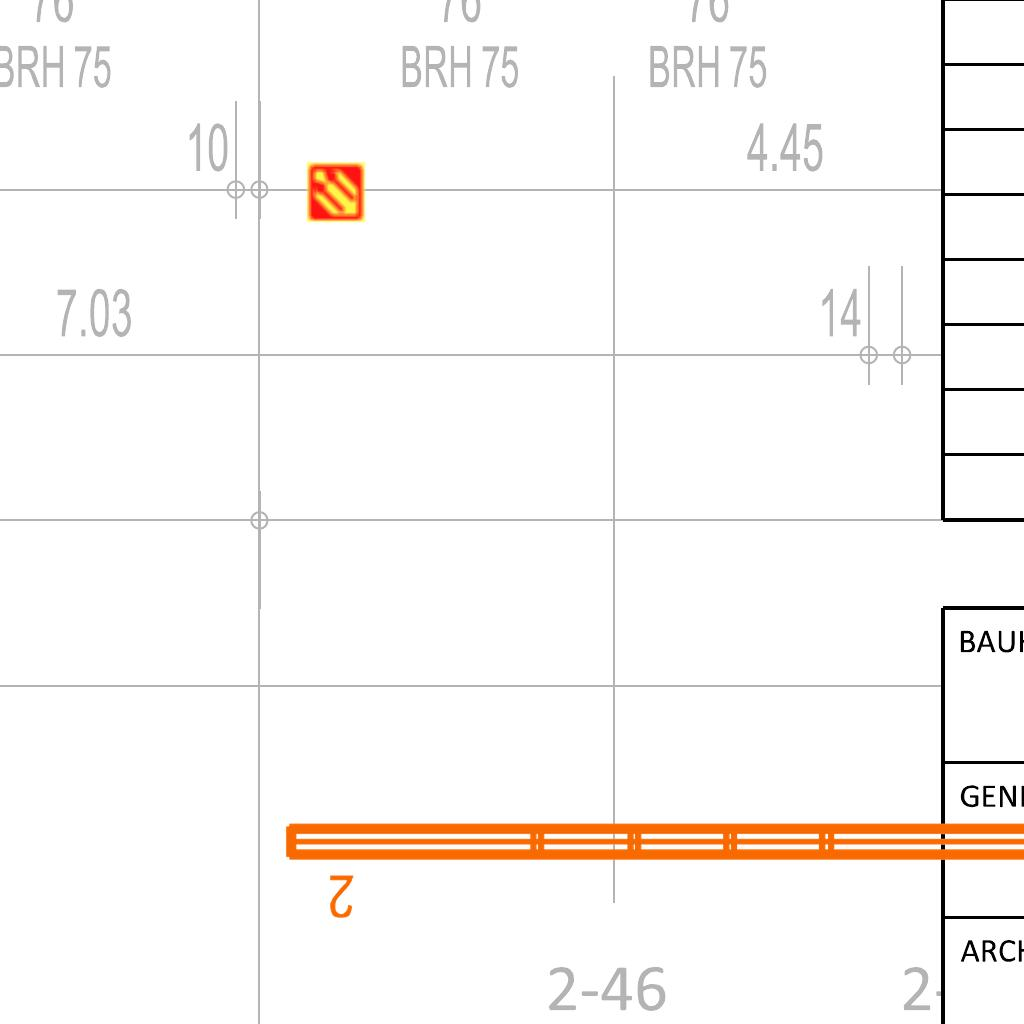ASR_Ansaugrauchmelder: (305, 161, 367, 223)
Ambulanz_Pendelleuchte_LED: (277, 811, 1024, 923)
